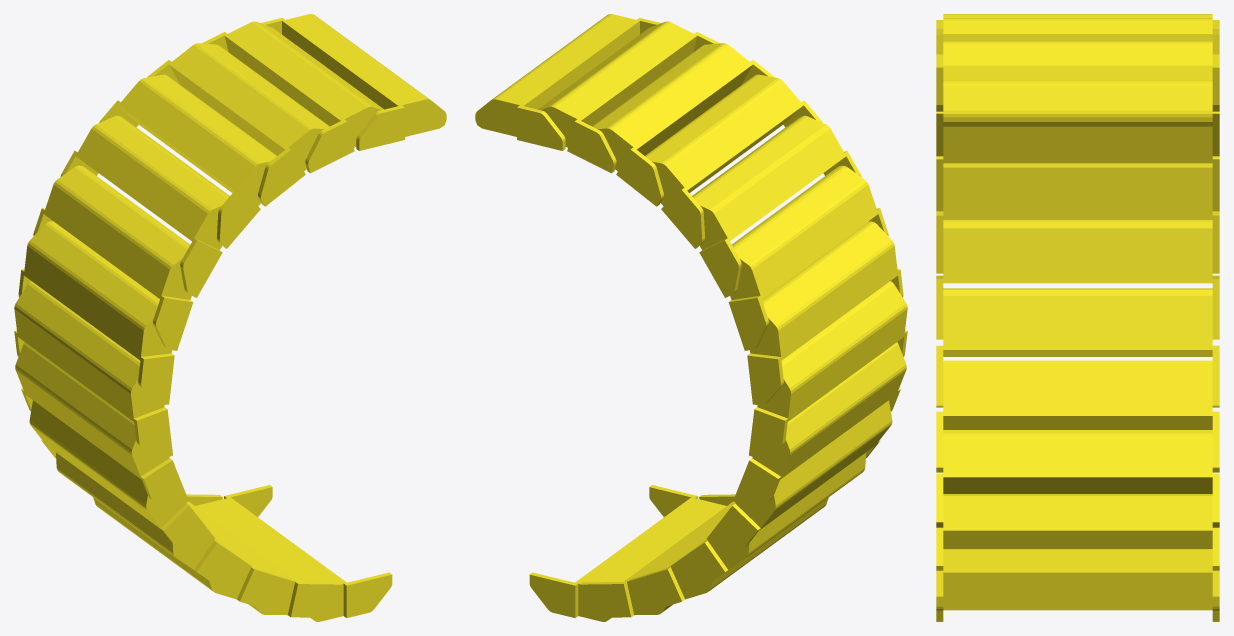
Rendered from ConveyorRadius2.fbx.
3 views of the same model, side by side, from view 1: azimuth 30°, elevation 25°; view 2: azimuth 150°, elevation 25°; view 3: azimuth 270°, elevation 25° (orthographic). The views are drawn at different scales.
Visible parts, largest first — view 1: Cube_119.107; view 2: Cube_119.107; view 3: Cube_119.107.
Boxes of the visible parts, x1,y1,x2,y2 form: Cube_119.107: (14,14,446,621); Cube_119.107: (475,14,907,621); Cube_119.107: (936,14,1219,621).
Size of the model in its own units: 6.95 by 10.57 by 4.67.
